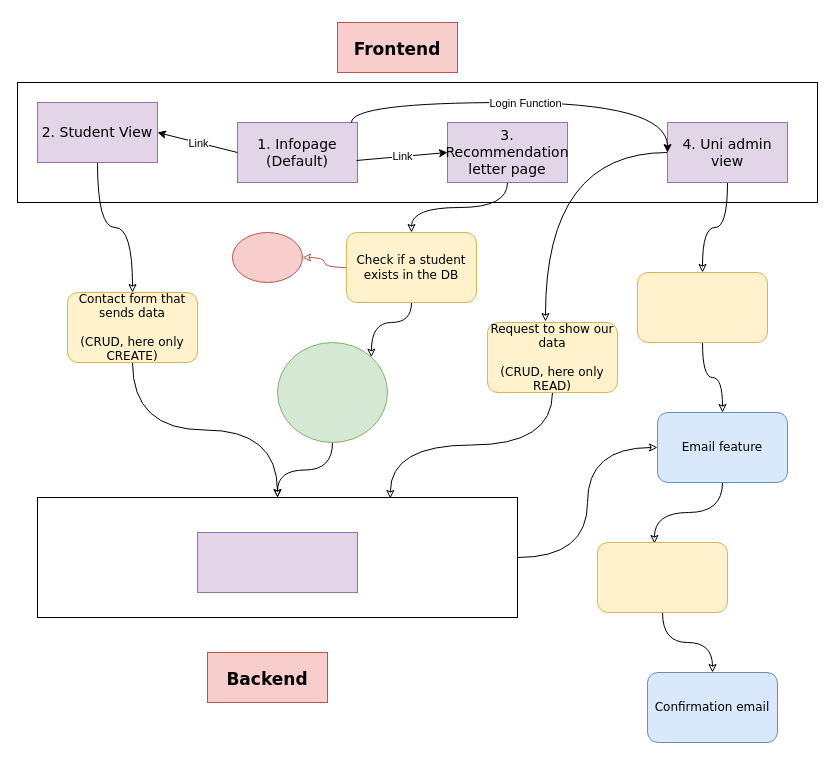
Some shapes in this 835 by 760 pixel diagram are drawn without their labels. The shapes that lost their labels are listed below. From the top down, each one's box as (x1, y1, x2, y2) in pixels, then its label:
(232, 232, 302, 282): No -> Refuse the letter
(636, 272, 768, 342): Button to send an email: accepted/rejected
(276, 342, 388, 442): Yes -> upload the letter to DB (CRUD, here only UPDATE)
(196, 532, 358, 592): Cloud Database (Firebase)
(596, 542, 728, 612): Sending an email automatically to every registered student
